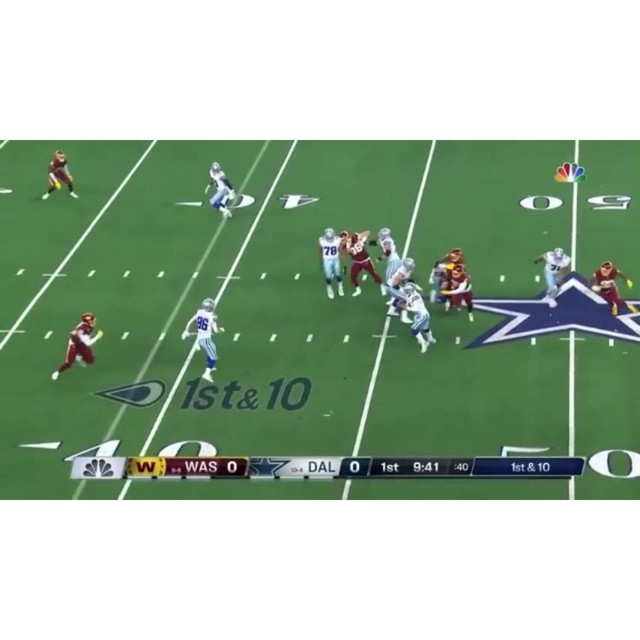american-football-player: (181, 298, 224, 382), (52, 312, 102, 381), (343, 230, 385, 298), (400, 283, 438, 355), (591, 260, 633, 317), (534, 248, 572, 309), (316, 228, 346, 298), (40, 150, 78, 201), (445, 260, 475, 322), (383, 258, 415, 315), (205, 162, 235, 219), (375, 227, 402, 283)
